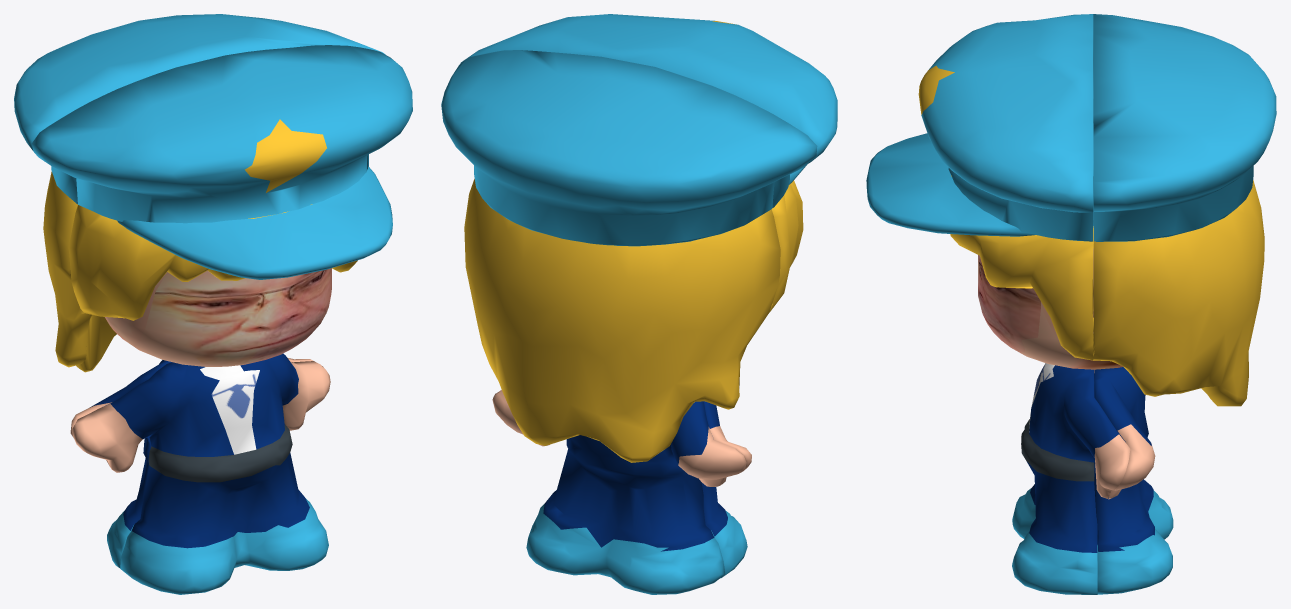
The model's file is Piloto_Fran.glb.
3 renders of one model, left to right at view 1: azimuth 30°, elevation 25°; view 2: azimuth 150°, elevation 25°; view 3: azimuth 270°, elevation 25°, orthographic.
Visible parts, largest first — view 1: Gorron.029, Gorron.015; view 2: Gorron.029; view 3: Gorron.029, Gorron.015.
Part boxes in pixels (x1,y1,x2,y2): Gorron.029: (14,14,412,594); Gorron.015: (105,268,331,366); Gorron.029: (441,14,837,594); Gorron.029: (866,14,1276,594); Gorron.015: (978,248,1122,369).
Size of the model in its own units: 0.7418 by 0.9735 by 0.7432.
Materials: 7 (2 with a texture image).
